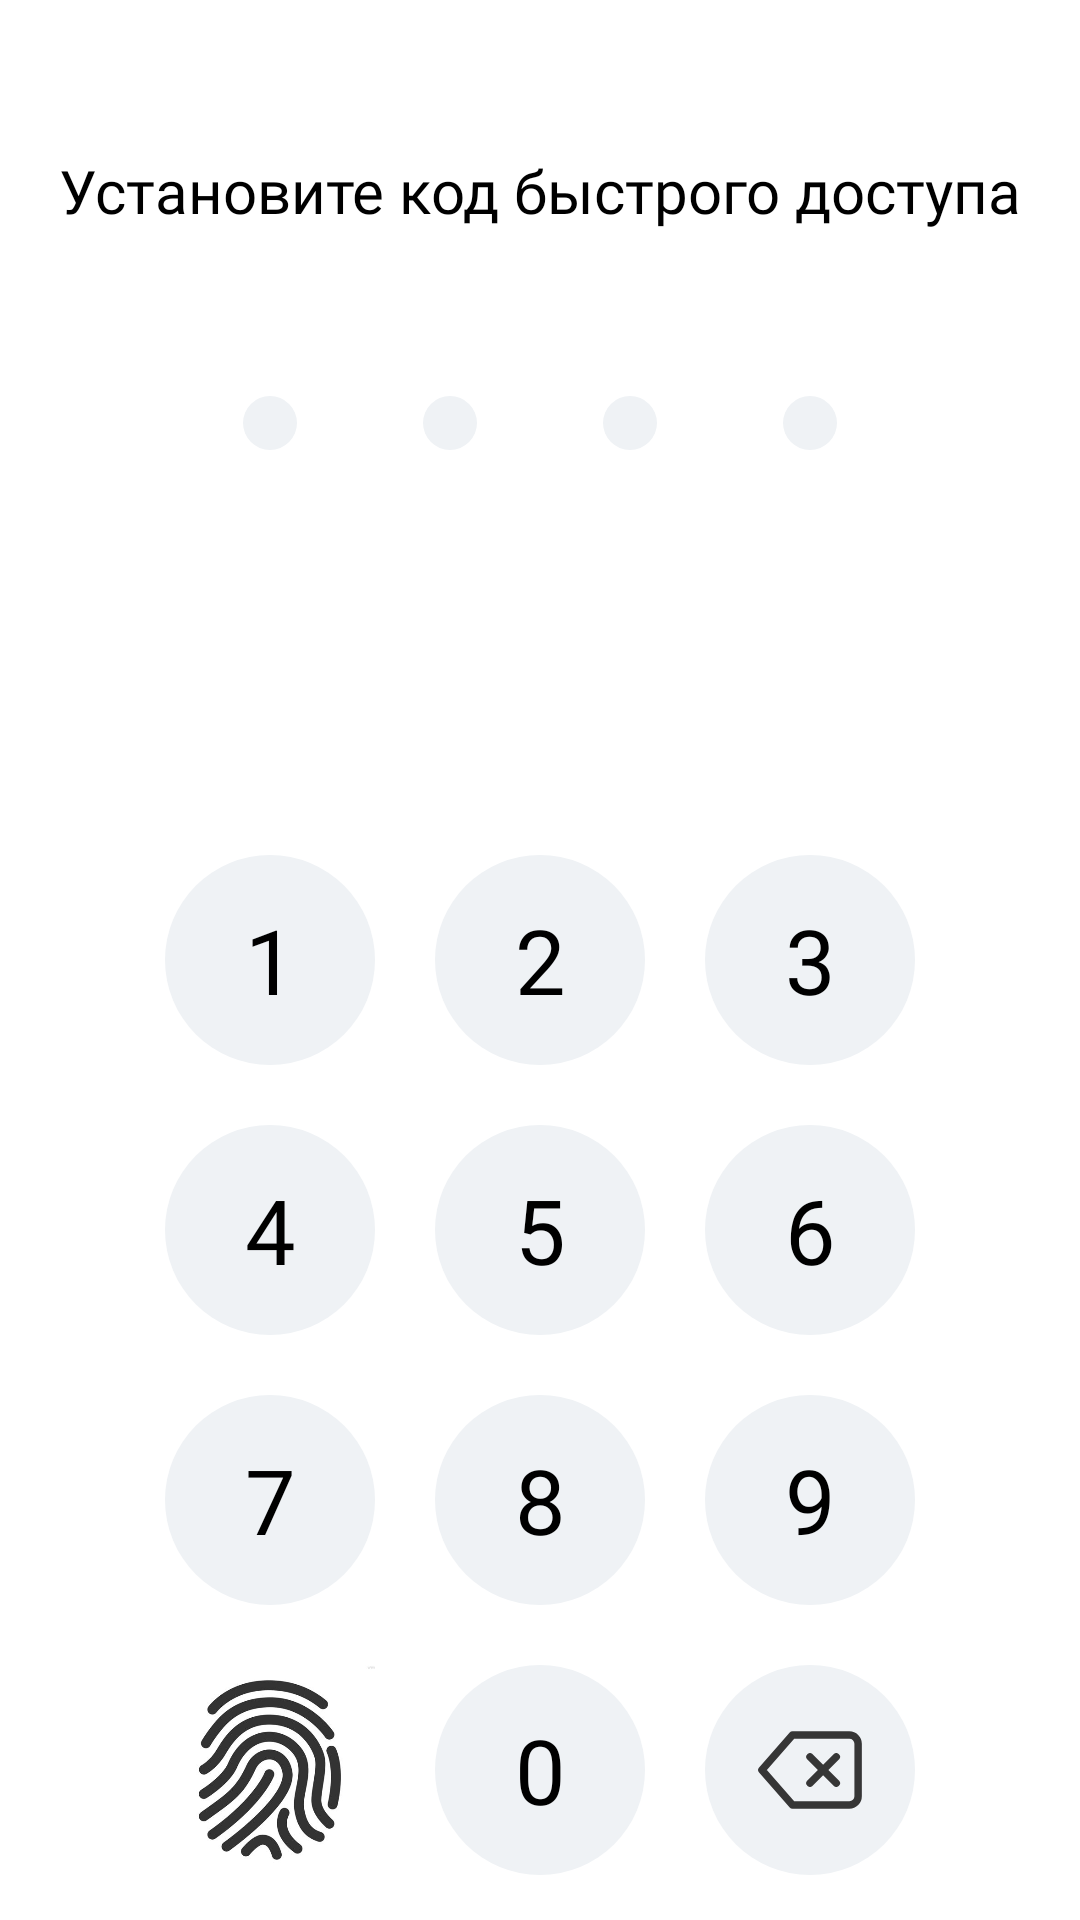

Named icons in this screenshot (1080 x 1920) and their centers, point (x, y):
delete: point (810, 1770)
fingerprint: point (285, 1763)
